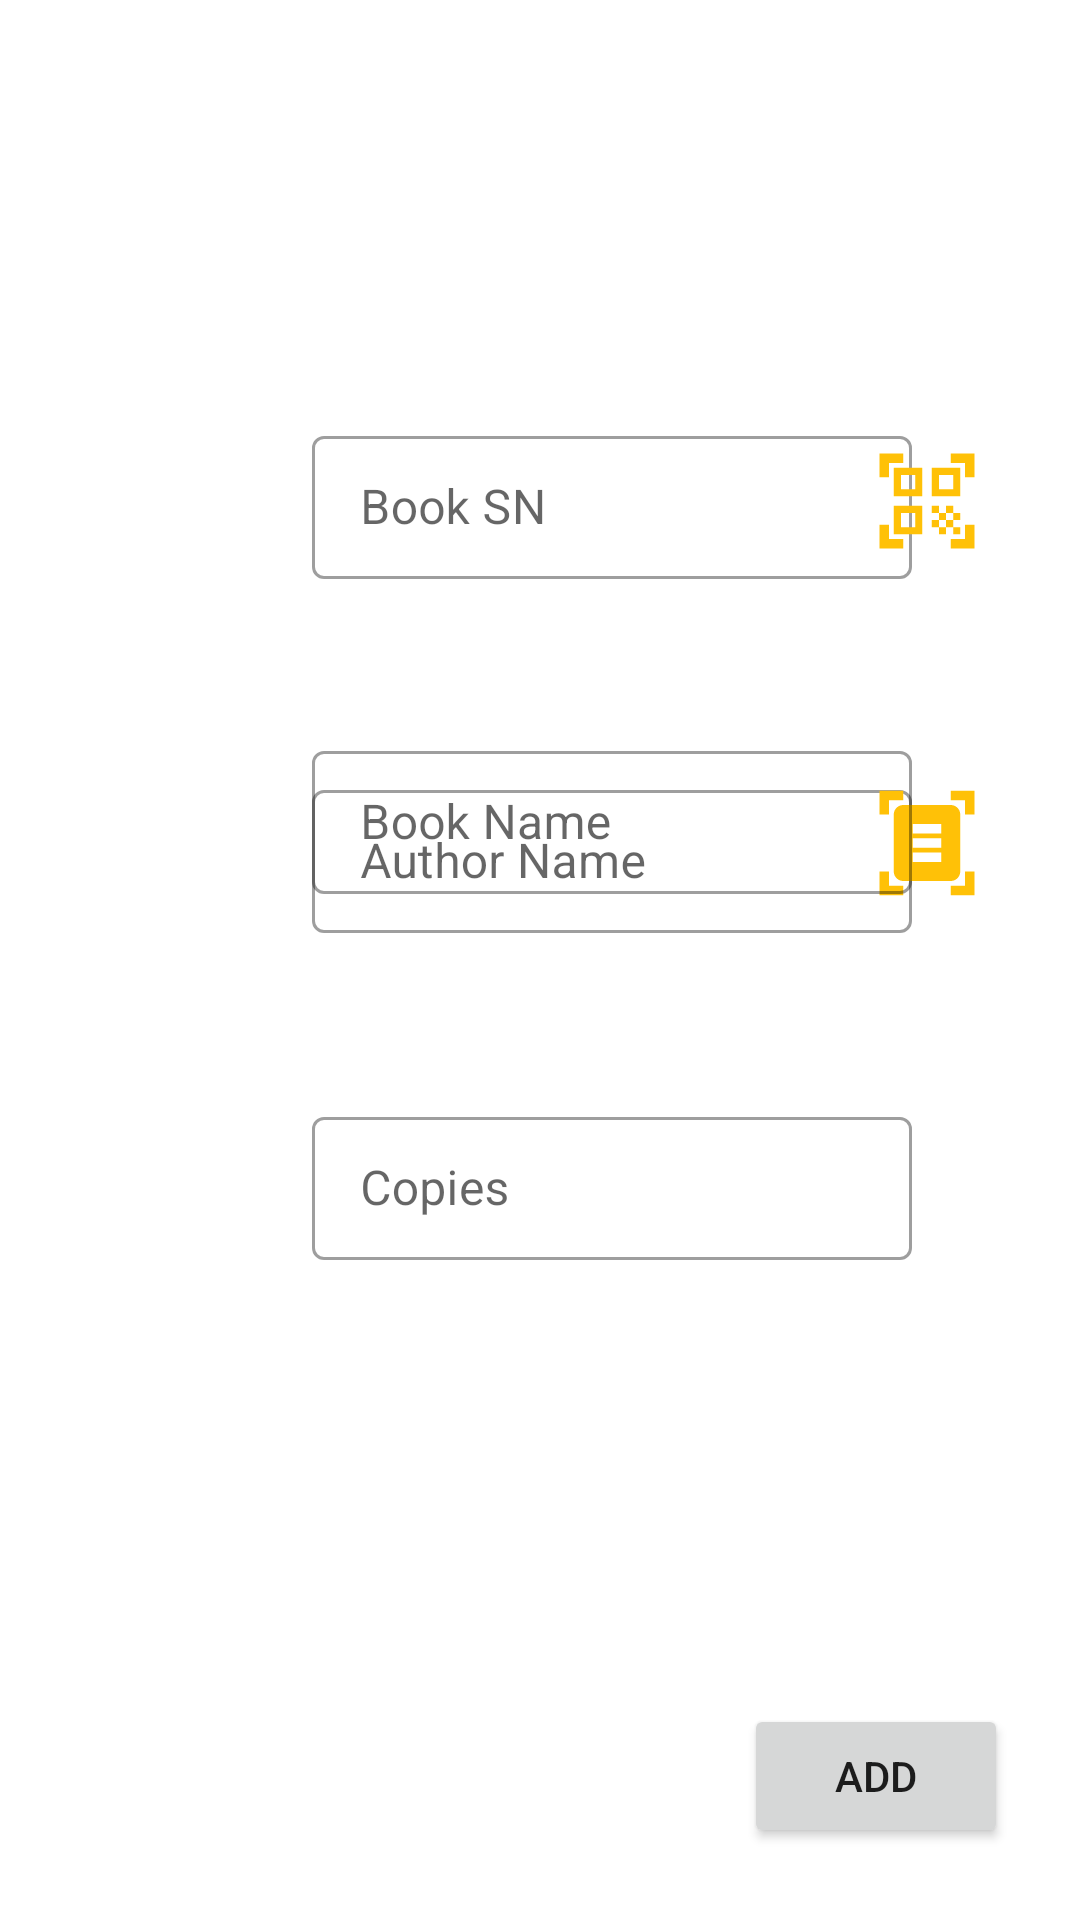

Icon bounding boxes for this 1080 × 1920 phone screenshot, format (x1, y1, x2, y2):
document scanner: (870, 786, 975, 900)
qr code scanner: (879, 453, 975, 549)
